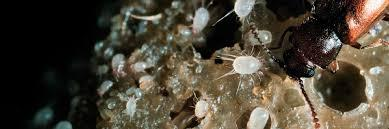Insects: (217, 48, 268, 93), (215, 0, 254, 24), (187, 95, 217, 121), (239, 26, 275, 47), (245, 105, 274, 129), (190, 1, 209, 36), (121, 95, 143, 122), (30, 107, 55, 129), (110, 50, 125, 82), (172, 26, 190, 51), (130, 58, 150, 74), (96, 80, 113, 97), (139, 75, 156, 91), (92, 41, 104, 58), (102, 47, 114, 61)
